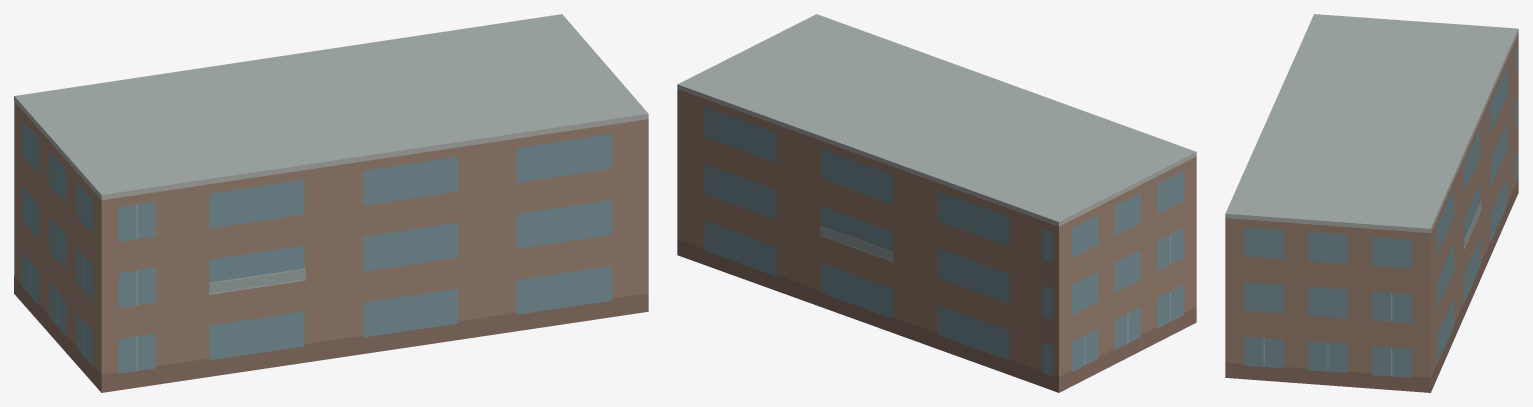
The model's file is survey-upis-33030929.glb.
3 renders of one model, left to right at view 1: azimuth 30°, elevation 25°; view 2: azimuth 150°, elevation 25°; view 3: azimuth 270°, elevation 25°, orthographic. The views are drawn at different scales.
Parts seen in each view (by area): view 1: survey-upis-33030929.tmp; view 2: survey-upis-33030929.tmp; view 3: survey-upis-33030929.tmp.
Part boxes in pixels (x1,y1,x2,y2): survey-upis-33030929.tmp: (14, 14, 648, 392); survey-upis-33030929.tmp: (677, 14, 1196, 392); survey-upis-33030929.tmp: (1225, 14, 1518, 392).
Bounding box in the file's own units: 25.71 × 9.15 × 14.84.
